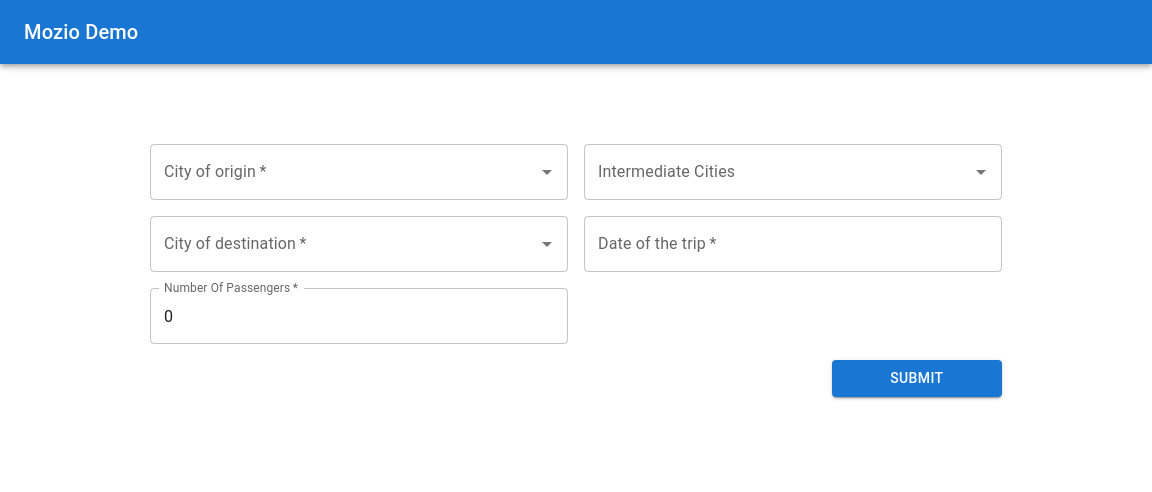
Home page › check if submit with invalid data
The width and height of the screenshot is (1152, 492).
Expected: the element with test id "form-container" is shown, [150, 139, 1002, 397]
Click the button "Submit": (917, 379) [832, 360, 1002, 397]
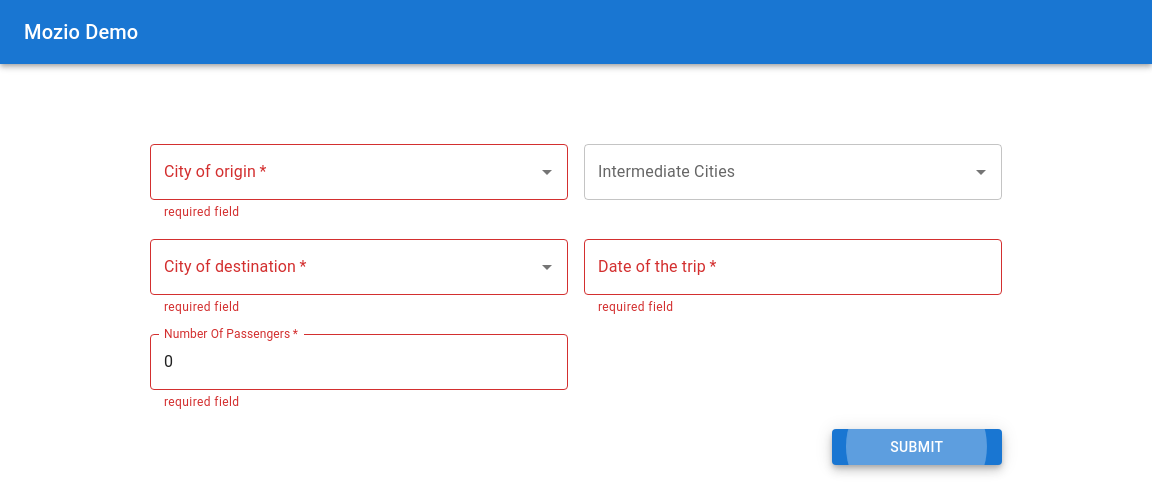
Expected: the text with test id "form-container" reads "required field", [164, 205, 239, 219]
